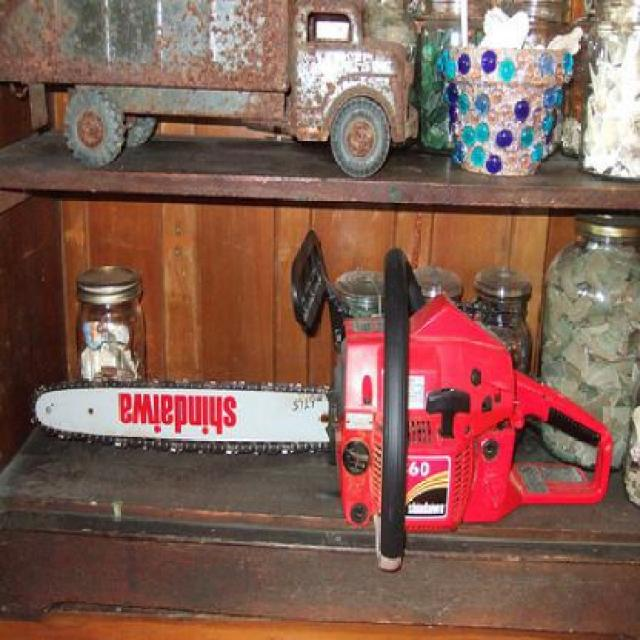Chainsaw: (31, 227, 617, 575)
